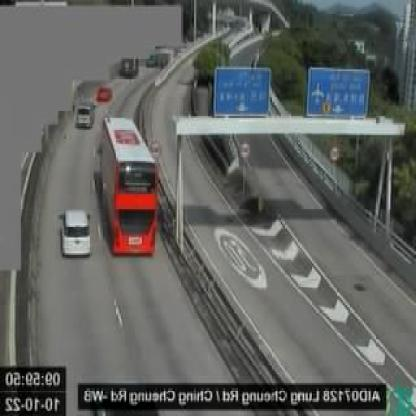Bus: (100, 118, 162, 258)
Car: (58, 206, 92, 258), (76, 105, 94, 129), (95, 84, 111, 101)
